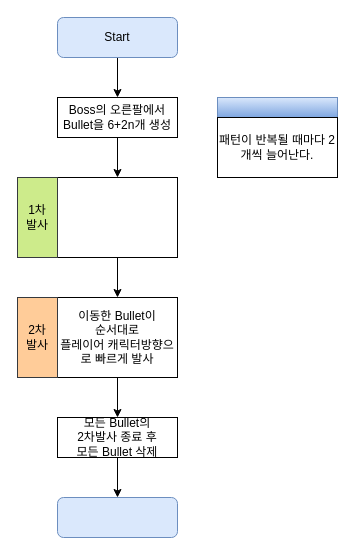
The diagram is 355 pixels wide and 555 high, and some of its shapes have lost their labels. Each missing label, with the box of its shape:
Bullet을 특정 범위 내의 방향으로 약한 힘으로 발사: (56, 176, 178, 258)
End: (56, 496, 178, 538)
발사 갯수에 대하여: (216, 96, 338, 118)
